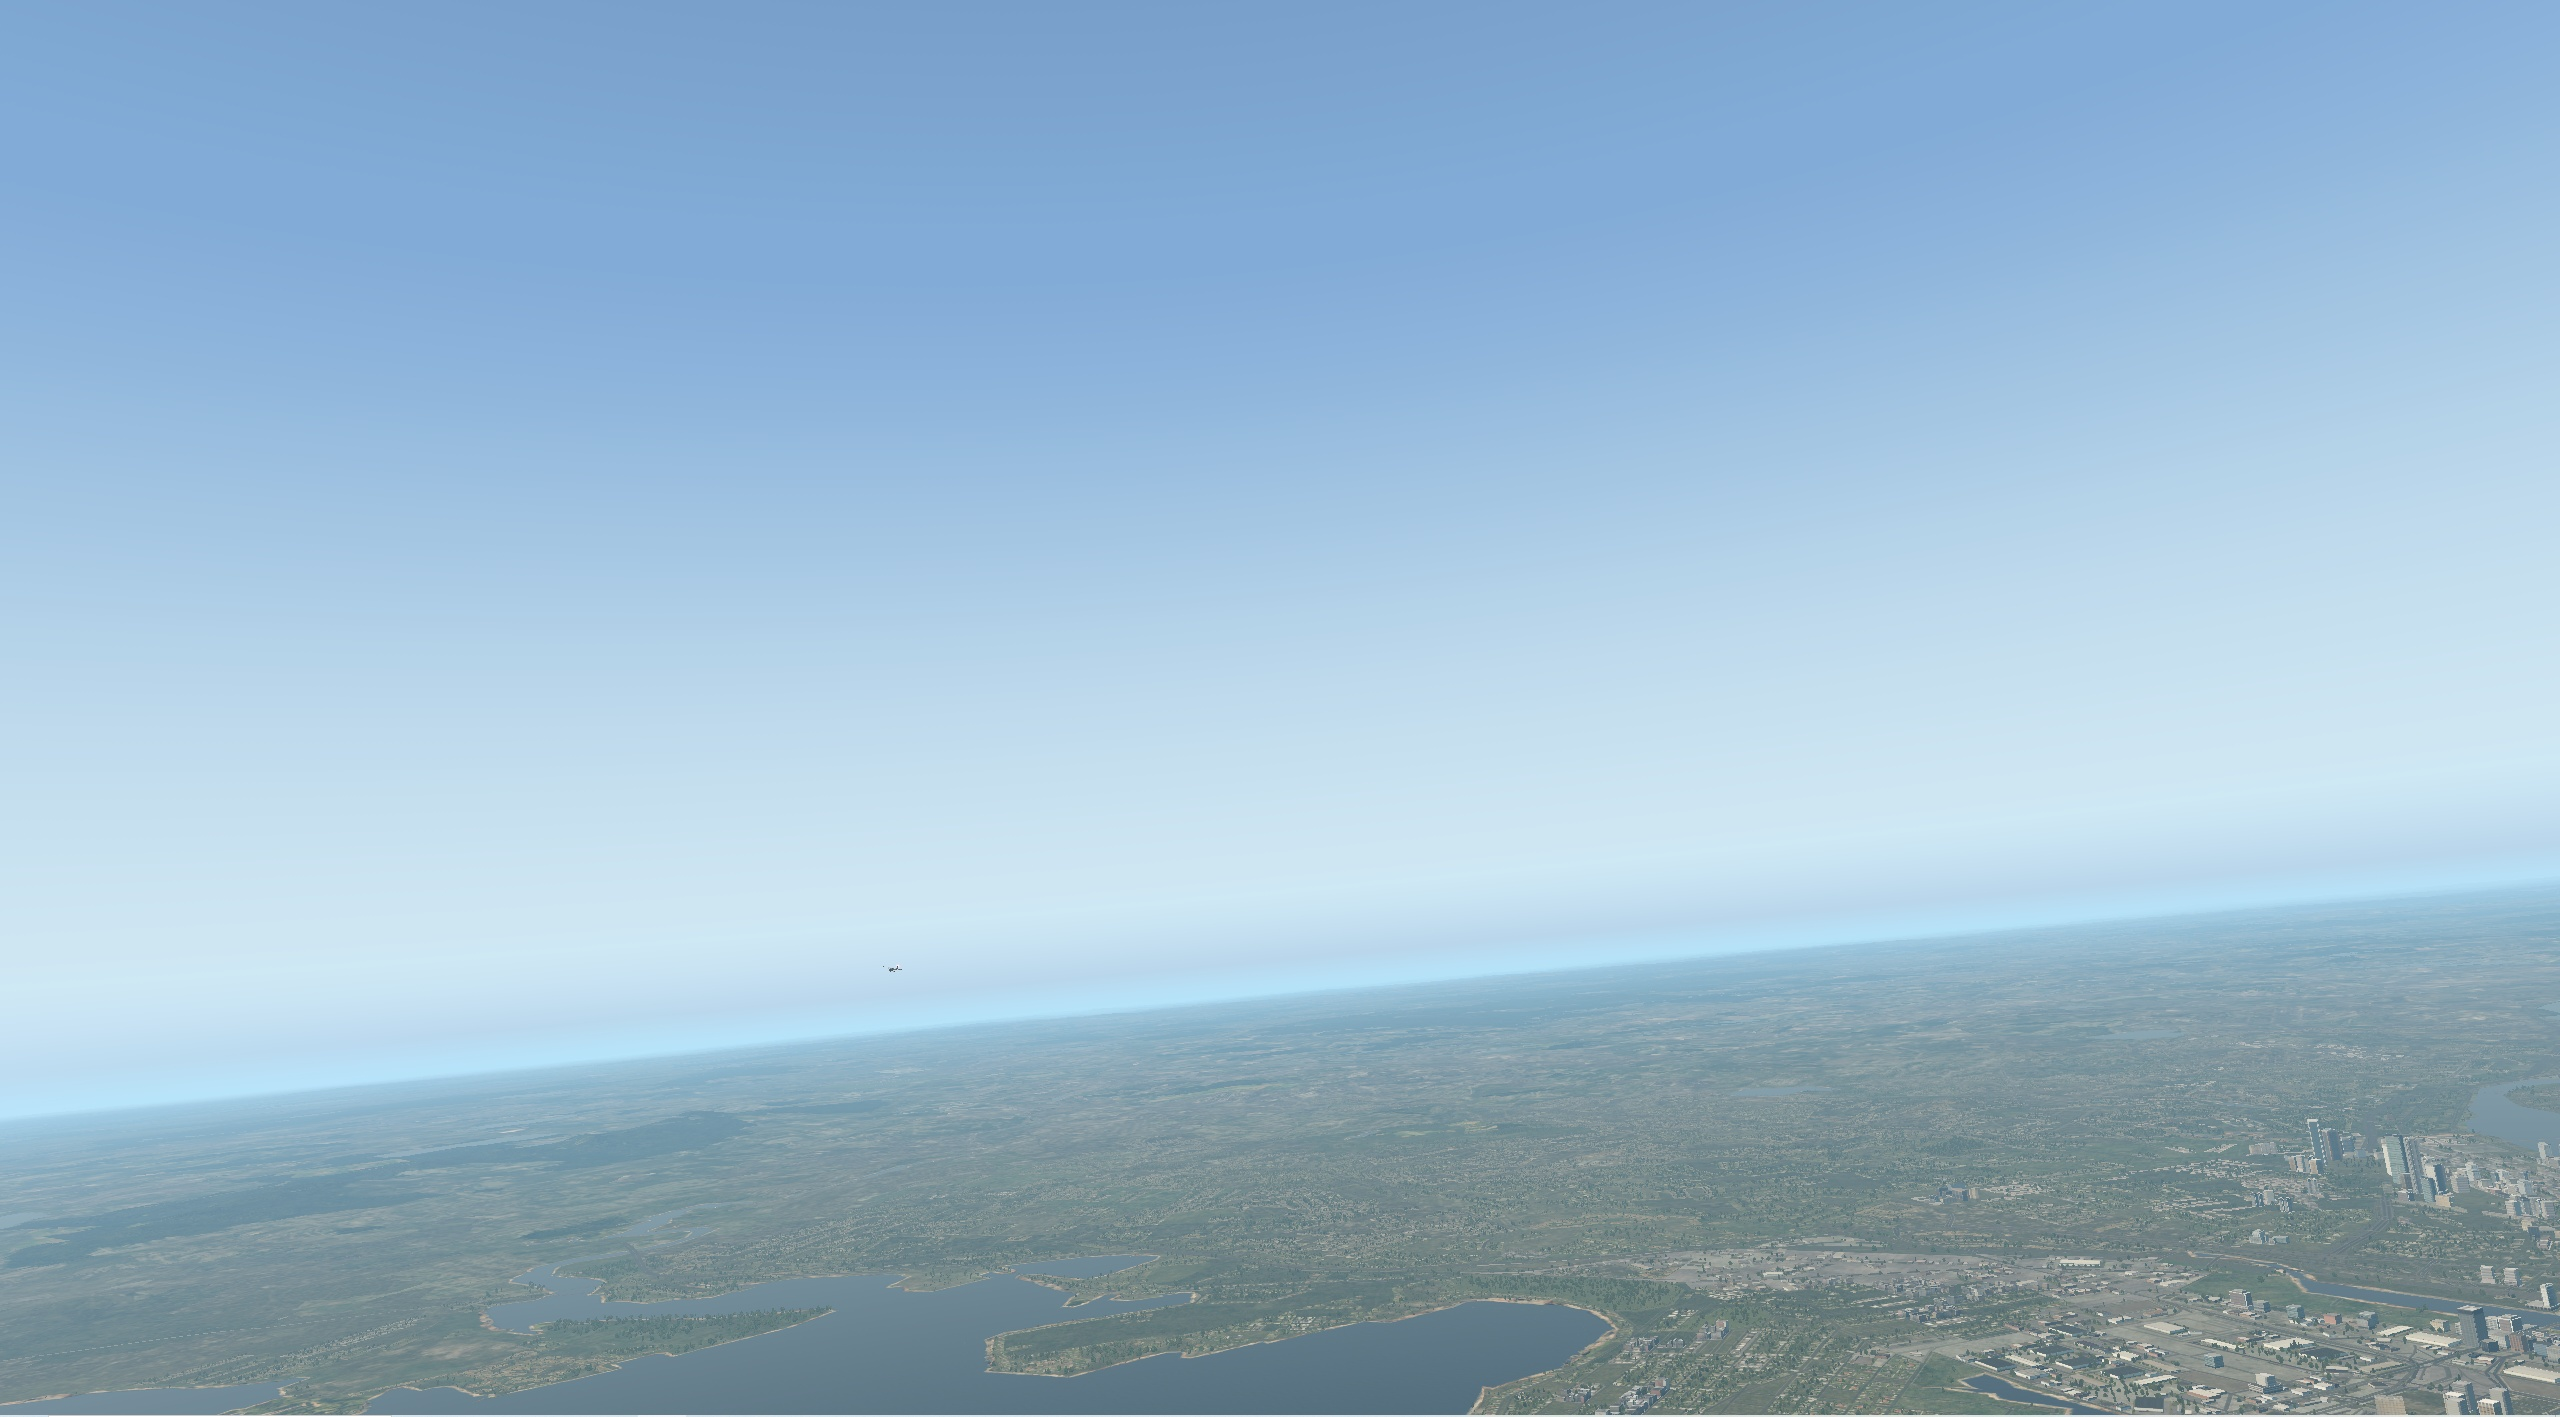aircraft: (880, 965, 904, 974)
